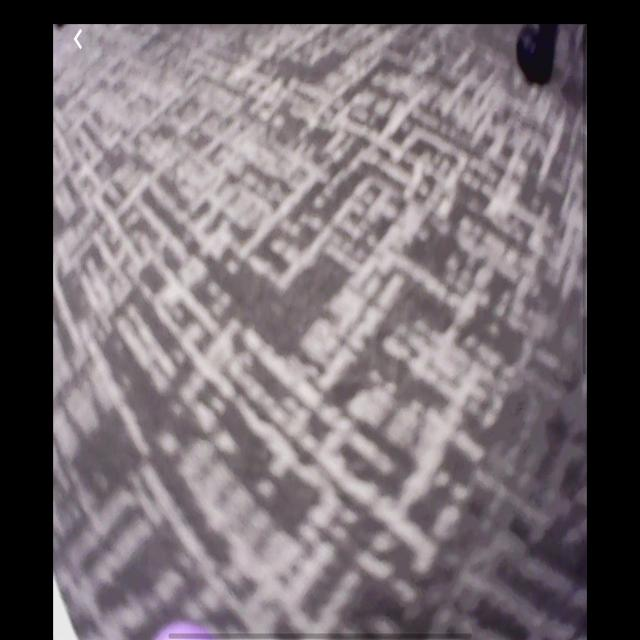ball: (151, 617, 227, 640)
